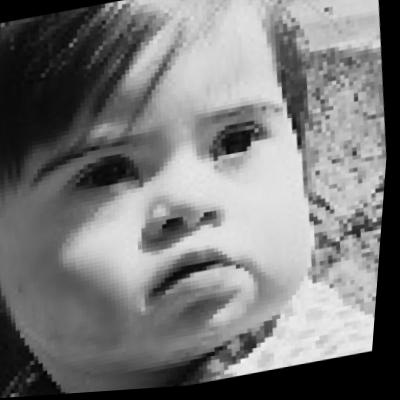sad: (0, 0, 337, 366)
